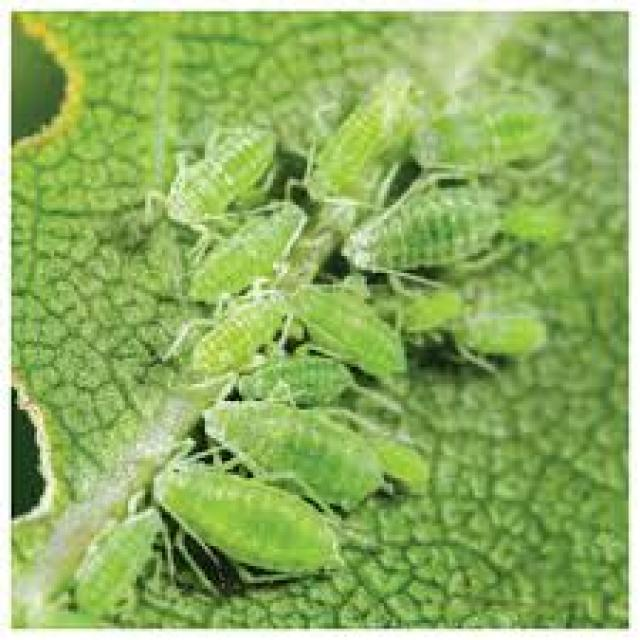Aphids: (142, 443, 352, 573), (199, 396, 388, 515), (135, 122, 285, 237), (293, 72, 414, 204), (386, 95, 552, 189), (340, 189, 502, 275), (291, 279, 418, 378), (73, 499, 165, 624), (165, 284, 282, 362), (449, 303, 555, 377), (234, 358, 374, 410), (366, 427, 435, 486), (393, 284, 465, 334), (504, 208, 568, 252)
